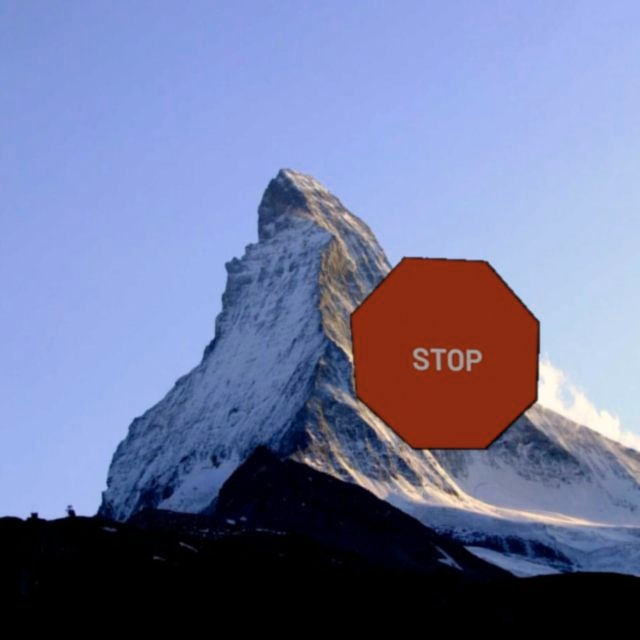STOP: (349, 256, 540, 450)
